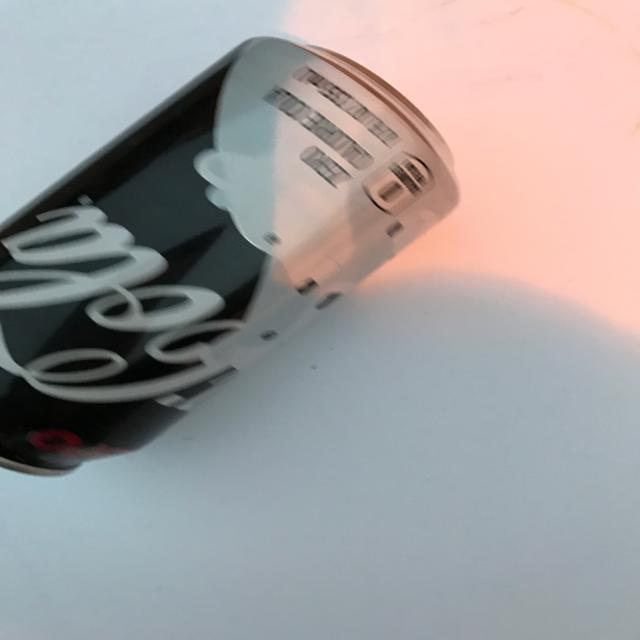metal: (1, 36, 460, 480)
